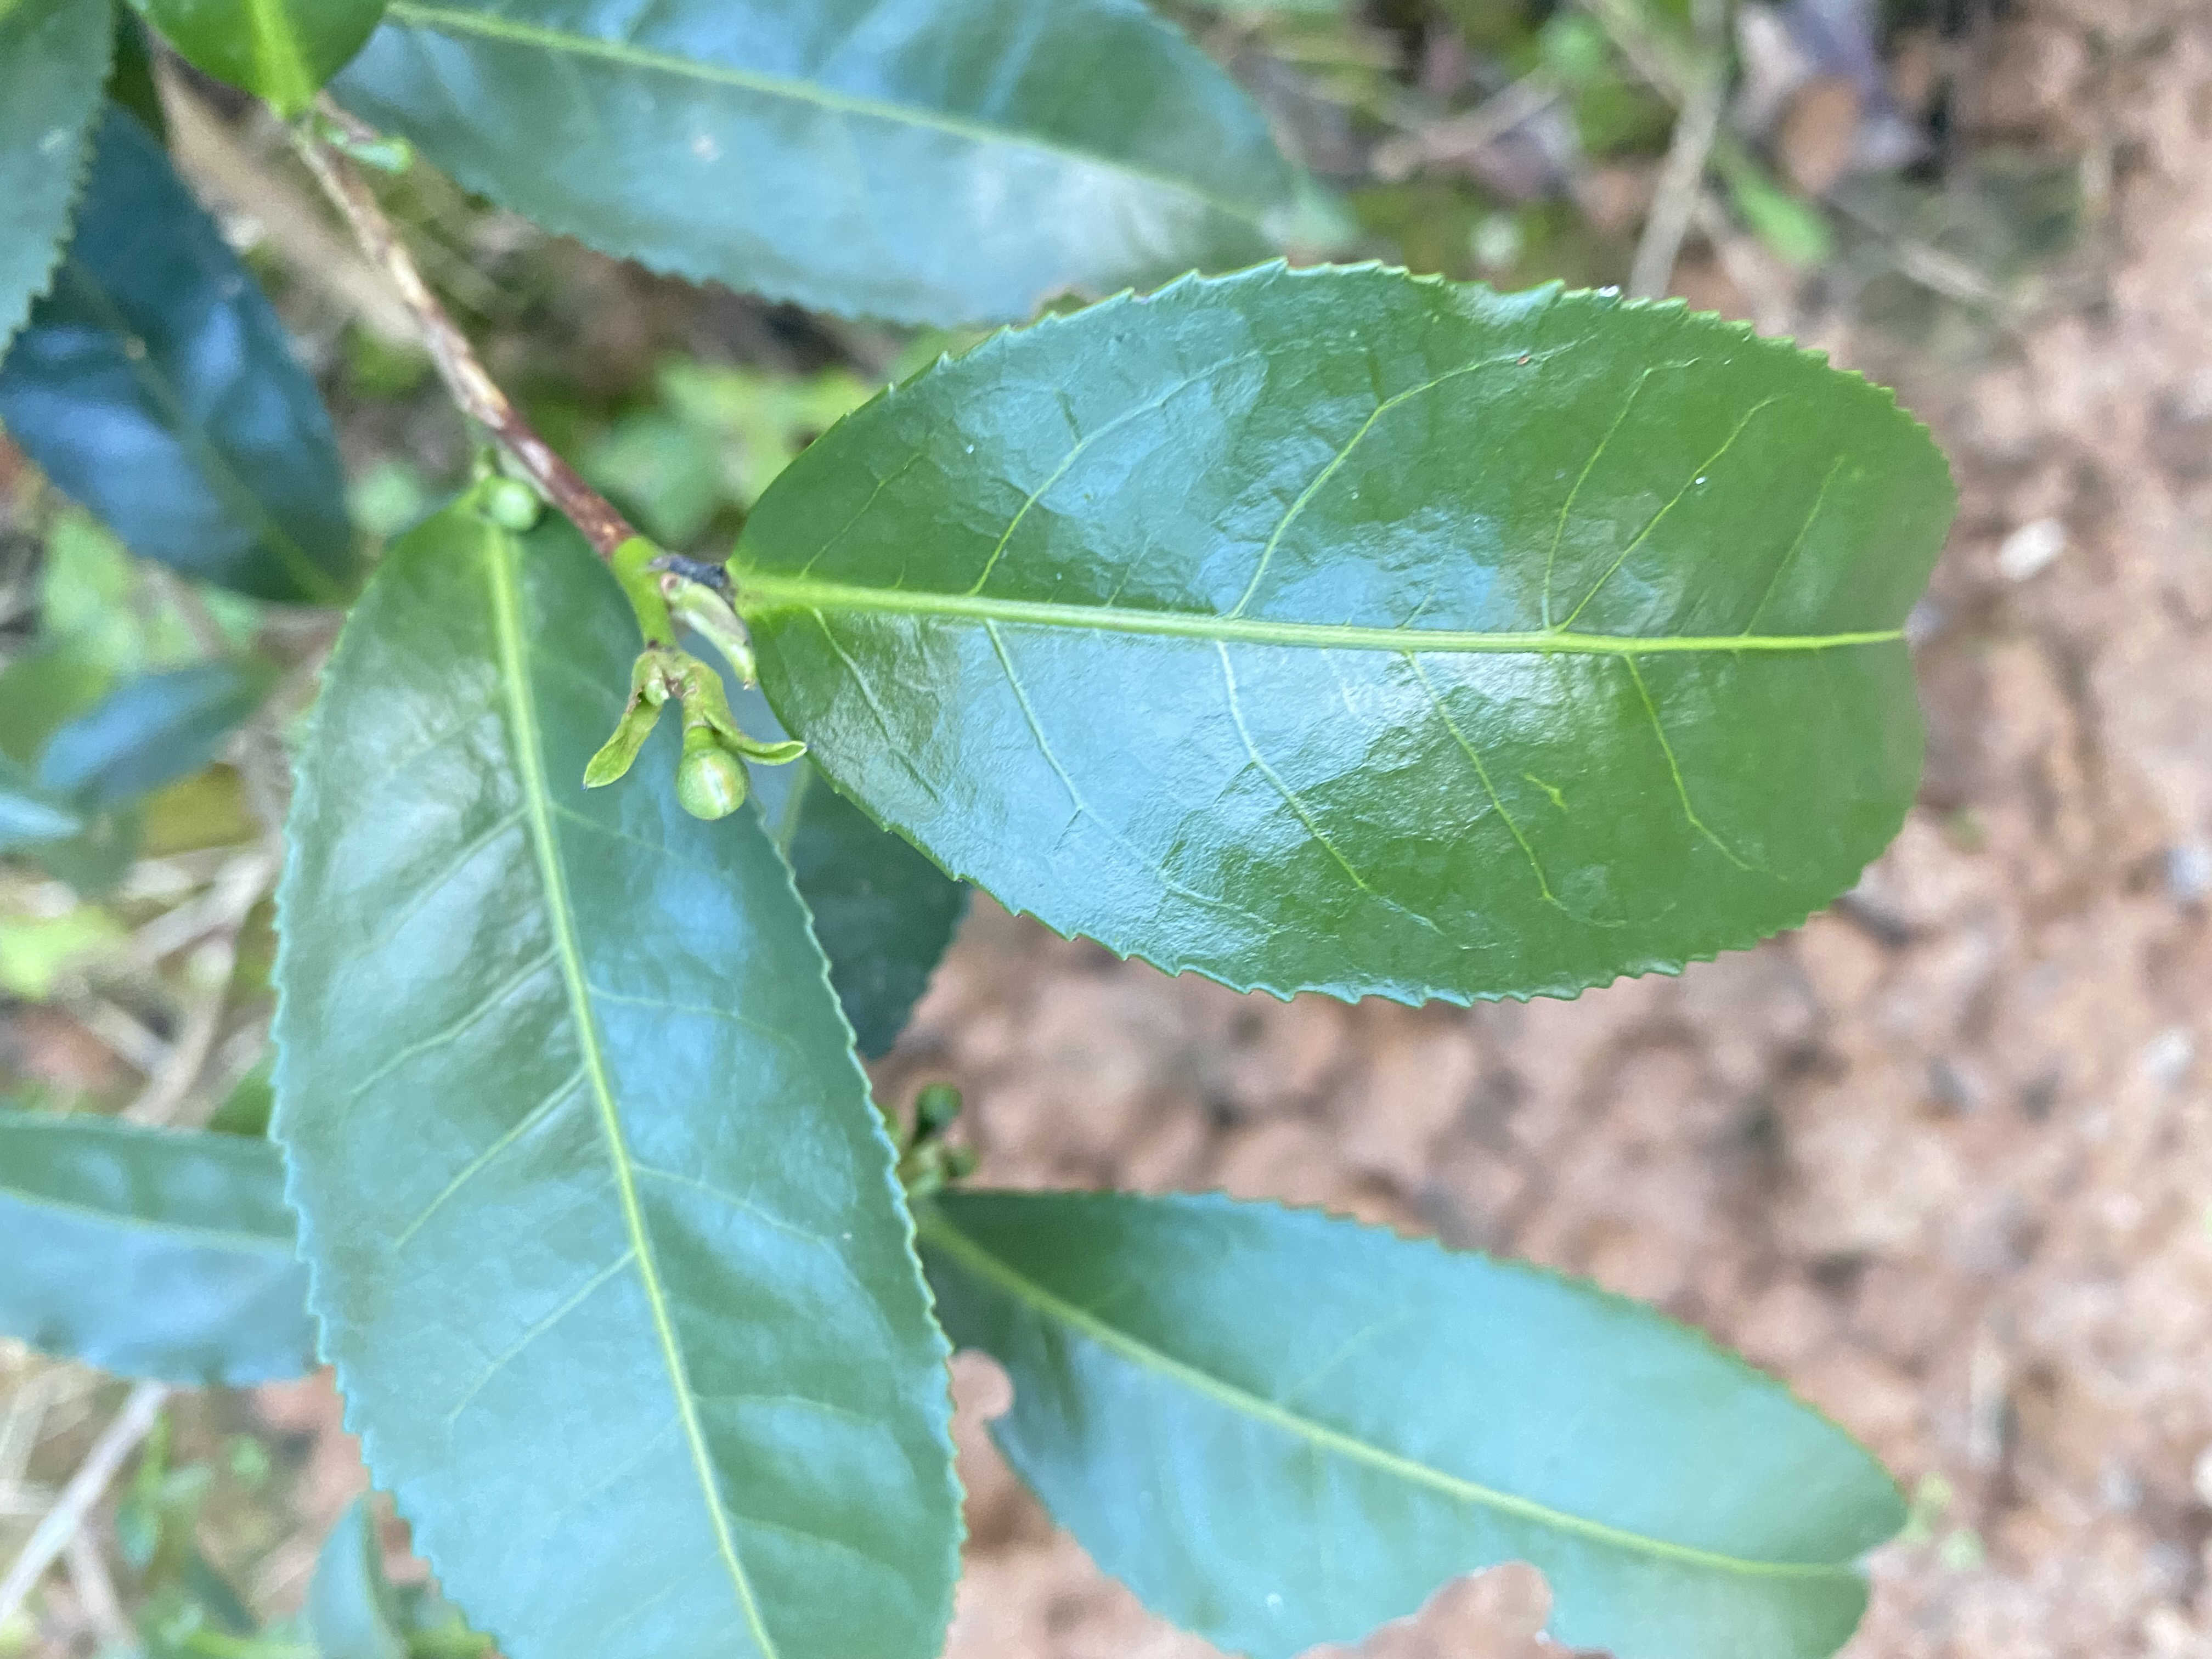chihuo_high: (909, 1187, 1909, 1656)
healthy: (716, 254, 1959, 1007), (261, 493, 970, 1656)
